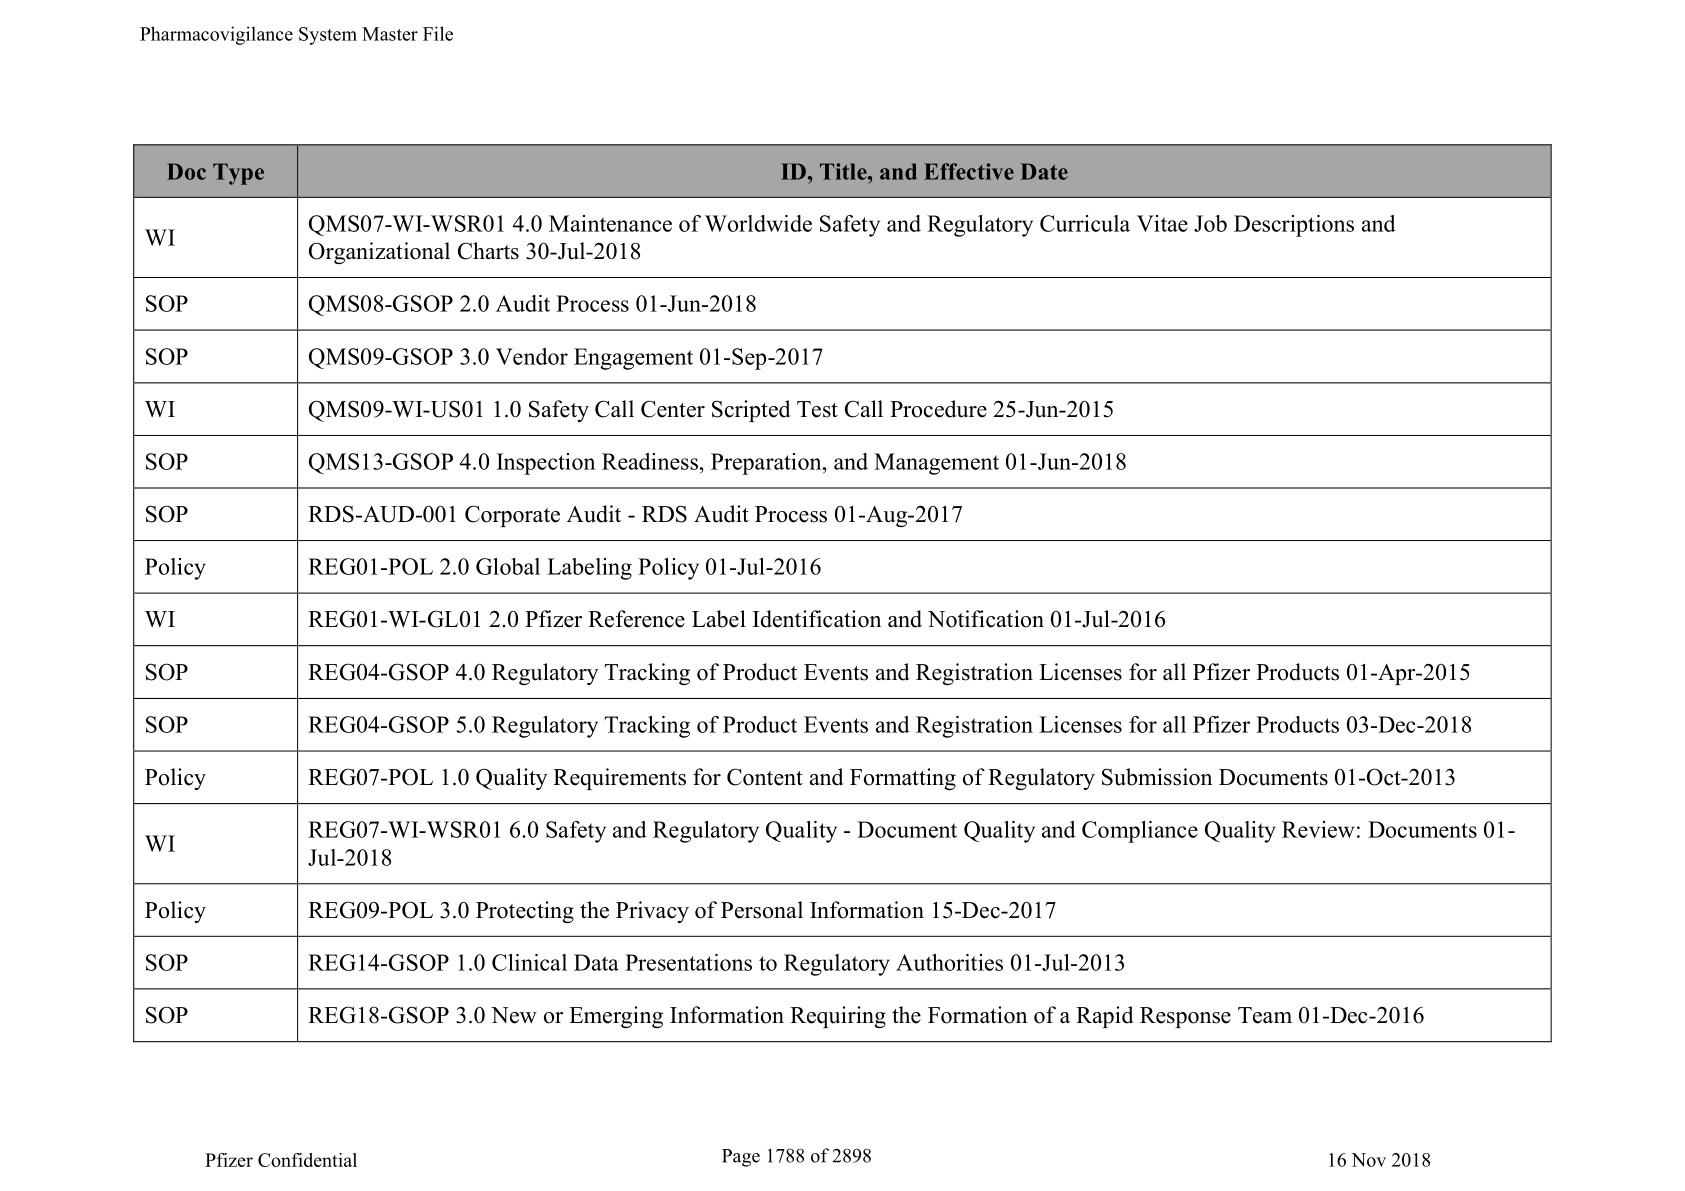full_lined: (131, 144, 1552, 1043)
